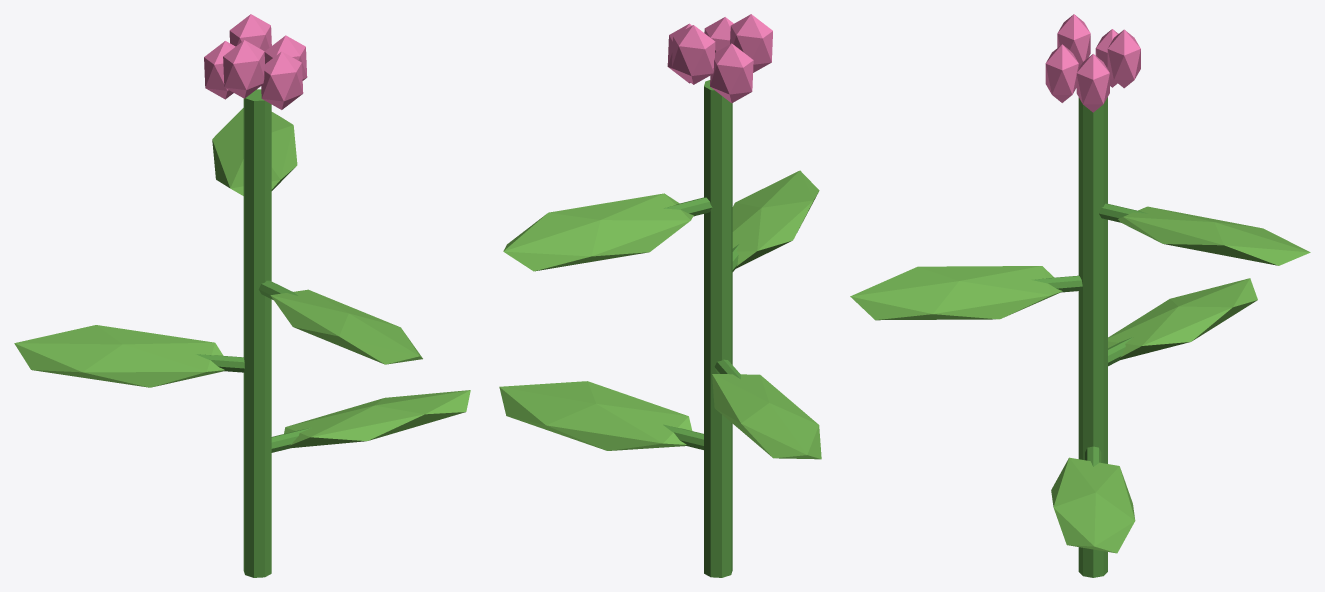
Rendered from Tobacco.glb.
3 views of the same model, side by side, from view 1: azimuth 30°, elevation 25°; view 2: azimuth 150°, elevation 25°; view 3: azimuth 270°, elevation 25° (orthographic). The views are drawn at different scales.
Visible parts, largest first — view 1: FTF_Plant_Tobacco_Mature_Mesh; view 2: FTF_Plant_Tobacco_Mature_Mesh; view 3: FTF_Plant_Tobacco_Mature_Mesh.
Boxes of the visible parts, x1,y1,x2,y2 form: FTF_Plant_Tobacco_Mature_Mesh: (14,14,470,577); FTF_Plant_Tobacco_Mature_Mesh: (499,14,821,577); FTF_Plant_Tobacco_Mature_Mesh: (850,14,1310,577).
Size of the model in its own units: 1.35 by 1.85 by 1.41.
